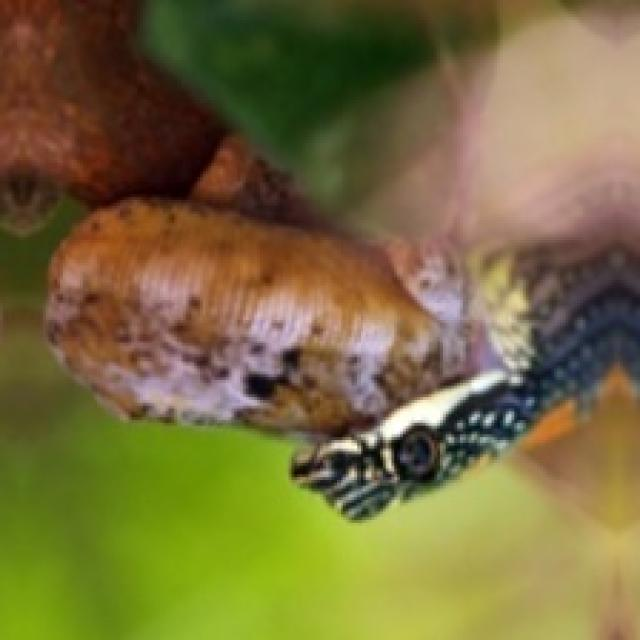paradise tree snake: (0, 0, 637, 514), (46, 197, 637, 514)
